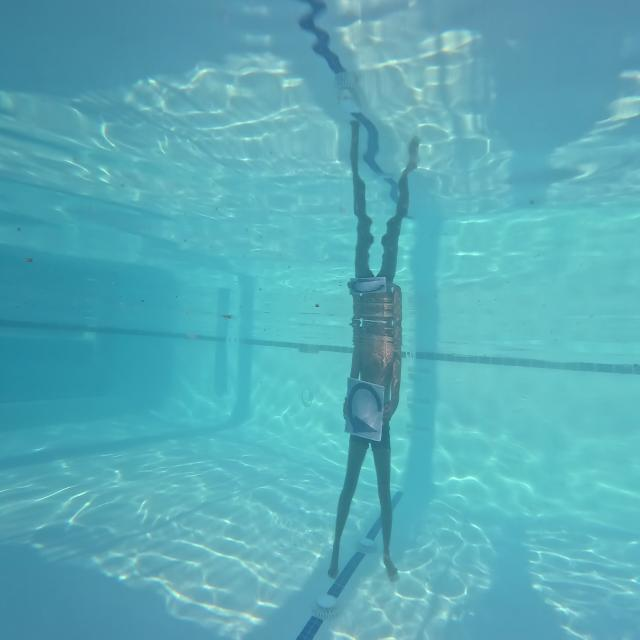blue_side: (339, 369, 396, 457)
